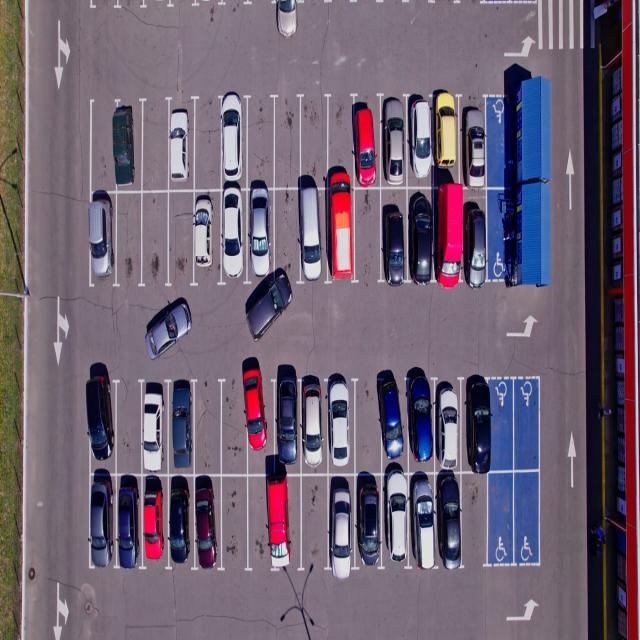space-empty: (298, 473, 332, 574), (139, 191, 172, 288), (192, 98, 225, 193), (168, 188, 199, 288), (193, 379, 224, 475), (115, 380, 146, 476), (140, 98, 171, 194), (327, 94, 359, 186), (114, 191, 144, 288), (351, 188, 382, 280), (271, 188, 302, 280), (352, 378, 382, 473), (219, 376, 248, 474), (246, 97, 276, 189), (219, 475, 248, 570), (462, 471, 491, 565), (514, 470, 543, 562), (486, 469, 514, 564), (273, 97, 302, 187), (247, 472, 273, 571), (489, 378, 515, 475), (515, 378, 542, 471), (298, 100, 326, 188), (92, 97, 115, 187)
space-occupied: (268, 471, 302, 573), (245, 373, 279, 473), (431, 184, 464, 281), (84, 374, 116, 472), (167, 95, 200, 190), (326, 375, 358, 471), (350, 471, 382, 567), (190, 189, 222, 285), (113, 98, 145, 194), (191, 473, 223, 568), (139, 381, 171, 476), (326, 474, 357, 572), (378, 473, 410, 567), (296, 187, 328, 280), (169, 377, 200, 472), (217, 188, 248, 283), (245, 187, 277, 279), (273, 377, 303, 474), (86, 191, 116, 288), (432, 375, 462, 470), (299, 376, 329, 470), (378, 187, 408, 280), (407, 92, 437, 185), (378, 96, 408, 188), (378, 377, 407, 472), (352, 96, 382, 187), (219, 97, 248, 191), (408, 186, 437, 280), (327, 186, 356, 280), (431, 95, 461, 185), (407, 376, 435, 472), (465, 378, 493, 474), (432, 470, 460, 564), (169, 477, 197, 571), (141, 473, 169, 566), (409, 470, 436, 564), (116, 473, 143, 565), (89, 476, 116, 564), (464, 96, 490, 187), (464, 190, 486, 289)
